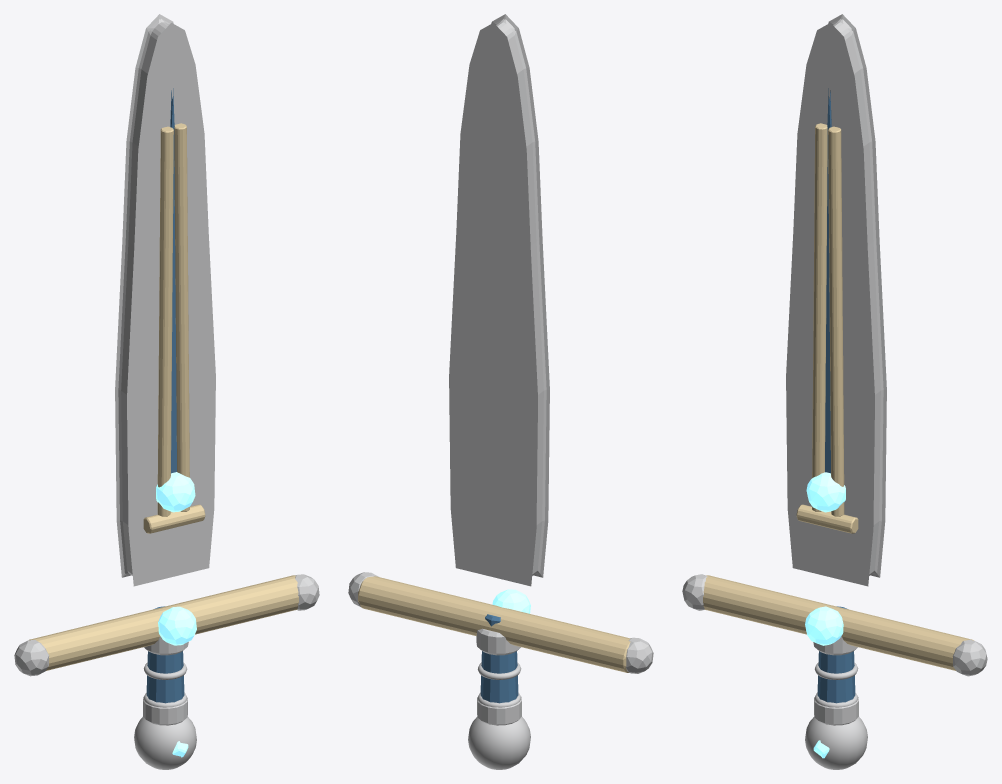
File: warrior-sword-07-blue-cathedral.glb
3 renders of one model, left to right at view 1: azimuth 30°, elevation 25°; view 2: azimuth 150°, elevation 25°; view 3: azimuth 330°, elevation 25°, orthographic.
Parts seen in each view (by area): view 1: warrior-sword-07-blue-cathedral_ForgedBlade, warrior-sword-07-blue-cathedral_Crossguard, warrior-sword-07-blue-cathedral_GothicFullerRail_-1, warrior-sword-07-blue-cathedral_GothicFullerRail_1, warrior-sword-07-blue-cathedral_Pommel, warrior-sword-07-blue-cathedral_LeatherGrip, warrior-sword-07-blue-cathedral_ColoredFuller, warrior-sword-07-blue-cathedral_GuardGem, warrior-sword-07-blue-cathedral_FleurSapphire, warrior-sword-07-blue-cathedral_GuardEnd_-1, warrior-sword-07-blue-cathedral_HeraldicCrossbar, warrior-sword-07-blue-cathedral_LowerFerrule (+1 smaller); view 2: warrior-sword-07-blue-cathedral_ForgedBlade, warrior-sword-07-blue-cathedral_Crossguard, warrior-sword-07-blue-cathedral_Pommel, warrior-sword-07-blue-cathedral_LeatherGrip, warrior-sword-07-blue-cathedral_LowerFerrule, warrior-sword-07-blue-cathedral_GuardEnd_-1, warrior-sword-07-blue-cathedral_UpperFerrule, warrior-sword-07-blue-cathedral_GuardGem; view 3: warrior-sword-07-blue-cathedral_ForgedBlade, warrior-sword-07-blue-cathedral_Crossguard, warrior-sword-07-blue-cathedral_GothicFullerRail_1, warrior-sword-07-blue-cathedral_GothicFullerRail_-1, warrior-sword-07-blue-cathedral_Pommel, warrior-sword-07-blue-cathedral_LeatherGrip, warrior-sword-07-blue-cathedral_ColoredFuller, warrior-sword-07-blue-cathedral_GuardGem, warrior-sword-07-blue-cathedral_FleurSapphire, warrior-sword-07-blue-cathedral_GuardEnd_1, warrior-sword-07-blue-cathedral_HeraldicCrossbar, warrior-sword-07-blue-cathedral_LowerFerrule (+1 smaller).
Boxes of the visible parts, x1=… form: warrior-sword-07-blue-cathedral_ForgedBlade: x1=115, y1=14, x2=215, y2=586; warrior-sword-07-blue-cathedral_Crossguard: x1=29, y1=575, x2=298, y2=670; warrior-sword-07-blue-cathedral_GothicFullerRail_-1: x1=157, y1=126, x2=173, y2=516; warrior-sword-07-blue-cathedral_GothicFullerRail_1: x1=174, y1=123, x2=189, y2=511; warrior-sword-07-blue-cathedral_Pommel: x1=134, y1=717, x2=196, y2=769; warrior-sword-07-blue-cathedral_LeatherGrip: x1=146, y1=606, x2=184, y2=703; warrior-sword-07-blue-cathedral_ColoredFuller: x1=170, y1=88, x2=176, y2=473; warrior-sword-07-blue-cathedral_GuardGem: x1=158, y1=606, x2=196, y2=645; warrior-sword-07-blue-cathedral_FleurSapphire: x1=156, y1=472, x2=195, y2=512; warrior-sword-07-blue-cathedral_GuardEnd_-1: x1=14, y1=640, x2=49, y2=676; warrior-sword-07-blue-cathedral_HeraldicCrossbar: x1=143, y1=504, x2=205, y2=533; warrior-sword-07-blue-cathedral_LowerFerrule: x1=143, y1=697, x2=187, y2=725; warrior-sword-07-blue-cathedral_ForgedBlade: x1=449, y1=14, x2=549, y2=586; warrior-sword-07-blue-cathedral_Crossguard: x1=358, y1=576, x2=630, y2=672; warrior-sword-07-blue-cathedral_Pommel: x1=468, y1=717, x2=530, y2=769; warrior-sword-07-blue-cathedral_LeatherGrip: x1=480, y1=614, x2=518, y2=703; warrior-sword-07-blue-cathedral_LowerFerrule: x1=477, y1=696, x2=521, y2=725; warrior-sword-07-blue-cathedral_GuardEnd_-1: x1=626, y1=637, x2=653, y2=673; warrior-sword-07-blue-cathedral_UpperFerrule: x1=476, y1=628, x2=520, y2=655; warrior-sword-07-blue-cathedral_GuardGem: x1=492, y1=589, x2=530, y2=613; warrior-sword-07-blue-cathedral_ForgedBlade: x1=786, y1=14, x2=886, y2=586; warrior-sword-07-blue-cathedral_Crossguard: x1=703, y1=575, x2=974, y2=670; warrior-sword-07-blue-cathedral_GothicFullerRail_1: x1=828, y1=126, x2=844, y2=516; warrior-sword-07-blue-cathedral_GothicFullerRail_-1: x1=812, y1=123, x2=827, y2=511; warrior-sword-07-blue-cathedral_Pommel: x1=805, y1=717, x2=867, y2=769; warrior-sword-07-blue-cathedral_LeatherGrip: x1=817, y1=606, x2=855, y2=703; warrior-sword-07-blue-cathedral_ColoredFuller: x1=825, y1=88, x2=831, y2=473; warrior-sword-07-blue-cathedral_GuardGem: x1=805, y1=606, x2=843, y2=645; warrior-sword-07-blue-cathedral_FleurSapphire: x1=806, y1=472, x2=845, y2=512; warrior-sword-07-blue-cathedral_GuardEnd_1: x1=952, y1=639, x2=987, y2=676; warrior-sword-07-blue-cathedral_HeraldicCrossbar: x1=796, y1=504, x2=858, y2=533; warrior-sword-07-blue-cathedral_LowerFerrule: x1=814, y1=697, x2=858, y2=725.
Bounding box in the file's own units: 0.7015 × 1.67 × 0.15.
